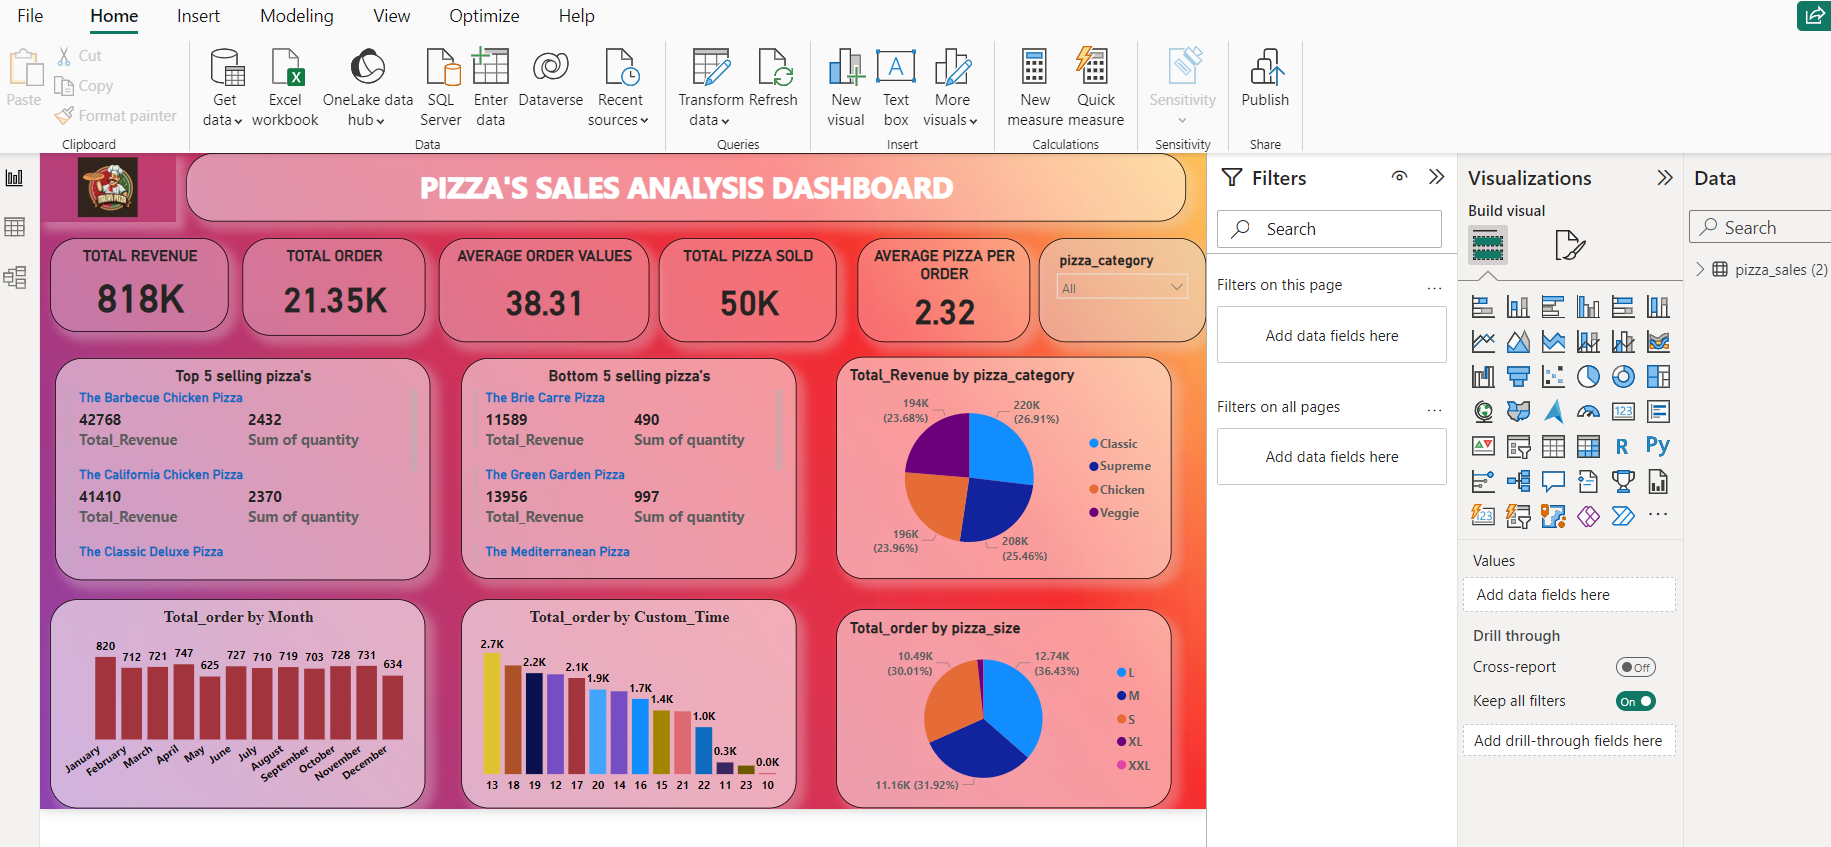

The page's visual inventory and layout, read from the dashboard file:
{"tool":"powerbi","page":{"name":"Page 2","canvas":[1280,720],"ordinal":0},"visuals":[{"type":"card","title":"TOTAL REVENUE","fields":{"Values":["pizza_sales (2).Total_Revenue"]},"box":[11.1,93.3,196.3,103],"z":0},{"type":"card","title":"TOTAL ORDER","fields":{"Values":["pizza_sales (2).Total_order"]},"box":[222.8,93.3,200.5,107.2],"z":1000},{"type":"card","title":"AVERAGE ORDER VALUES","fields":{"Values":["pizza_sales (2).Average_order_values"]},"box":[437.2,93.3,231.2,114.2],"z":2000},{"type":"card","title":"TOTAL PIZZA SOLD","fields":{"Values":["pizza_sales (2).Total_pizza_sold"]},"box":[679.5,93.3,195,114.2],"z":3000},{"type":"card","title":"AVERAGE PIZZA PER ORDER","fields":{"Values":["pizza_sales (2).Average_pizzas_per_order"]},"box":[896.8,93.3,189.4,114.2],"z":4000},{"type":"textbox","box":[160.1,0,1097.3,75.2],"z":5000},{"type":"image","box":[0,0,149,75.2],"z":6000},{"type":"slicer","fields":{"Values":["pizza_sales (2).pizza_category"]},"box":[1095.9,93.3,183.8,114.2],"z":7000},{"type":"columnChart","fields":{"Category":["pizza_sales (2).order_date.Variation.Date Hierarchy.Month"],"Y":["pizza_sales (2).Total_order"]},"box":[11.1,490.2,412.2,229.8],"z":8000},{"type":"pieChart","fields":{"Category":["pizza_sales (2).pizza_category"],"Y":["pizza_sales (2).Total_Revenue"]},"box":[874.5,224.2,367.6,243.7],"z":9000},{"type":"multiRowCard","title":"Bottom 5 selling pizza''s","fields":{"Values":["pizza_sales (2).pizza_name","pizza_sales (2).Total_Revenue","Sum(pizza_sales (2).quantity)"]},"box":[462.3,225.6,367.6,242.3],"z":10000},{"type":"multiRowCard","title":"Top 5 selling pizza''s","fields":{"Values":["pizza_sales (2).pizza_name","pizza_sales (2).Total_Revenue","Sum(pizza_sales (2).quantity)"]},"box":[16.7,225.6,412.2,243.7],"z":11000},{"type":"pieChart","fields":{"Category":["pizza_sales (2).pizza_size"],"Y":["pizza_sales (2).Total_order"]},"box":[874.5,501.3,367.6,218.6],"z":12000},{"type":"columnChart","fields":{"Category":["pizza_sales (2).Custom_Time"],"Y":["pizza_sales (2).Total_order"]},"box":[462.3,490.2,367.6,229.8],"z":13000}]}

Visuals, with their boxes on the page's 1280x720 design canvas (x1, y1, x2, y2). These are canvas units, not pixel positions in the 1831x847 screenshot, which may show the page scaled, cropped or inside an application window:
"TOTAL REVENUE" card: (left=11, top=93, right=207, bottom=196)
"TOTAL ORDER" card: (left=223, top=93, right=423, bottom=200)
"AVERAGE ORDER VALUES" card: (left=437, top=93, right=668, bottom=208)
"TOTAL PIZZA SOLD" card: (left=680, top=93, right=874, bottom=208)
"AVERAGE PIZZA PER ORDER" card: (left=897, top=93, right=1086, bottom=208)
textbox: (left=160, top=0, right=1257, bottom=75)
image: (left=0, top=0, right=149, bottom=75)
slicer - pizza_sales (2).pizza_category: (left=1096, top=93, right=1280, bottom=208)
columnChart - pizza_sales (2).order_date.Variation.Date Hierarchy.Month x pizza_sales (2).Total_order: (left=11, top=490, right=423, bottom=720)
pieChart - pizza_sales (2).pizza_category x pizza_sales (2).Total_Revenue: (left=874, top=224, right=1242, bottom=468)
"Bottom 5 selling pizza''s" multiRowCard: (left=462, top=226, right=830, bottom=468)
"Top 5 selling pizza''s" multiRowCard: (left=17, top=226, right=429, bottom=469)
pieChart - pizza_sales (2).pizza_size x pizza_sales (2).Total_order: (left=874, top=501, right=1242, bottom=720)
columnChart - pizza_sales (2).Custom_Time x pizza_sales (2).Total_order: (left=462, top=490, right=830, bottom=720)
